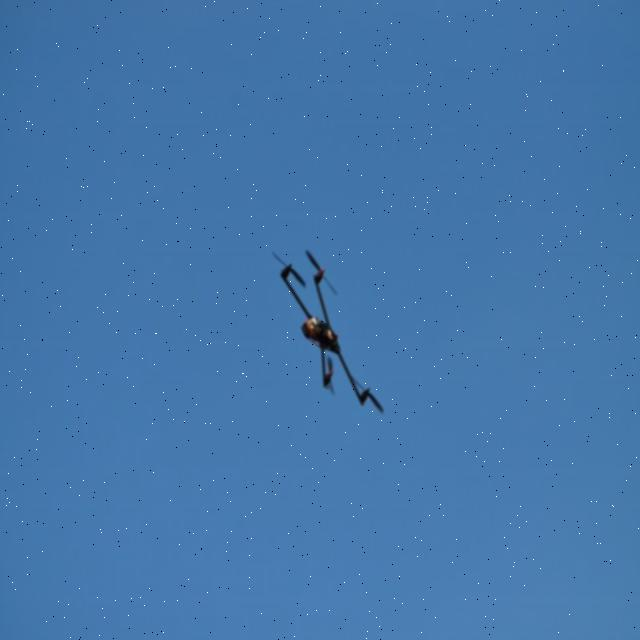UAV: (278, 250, 386, 417)
